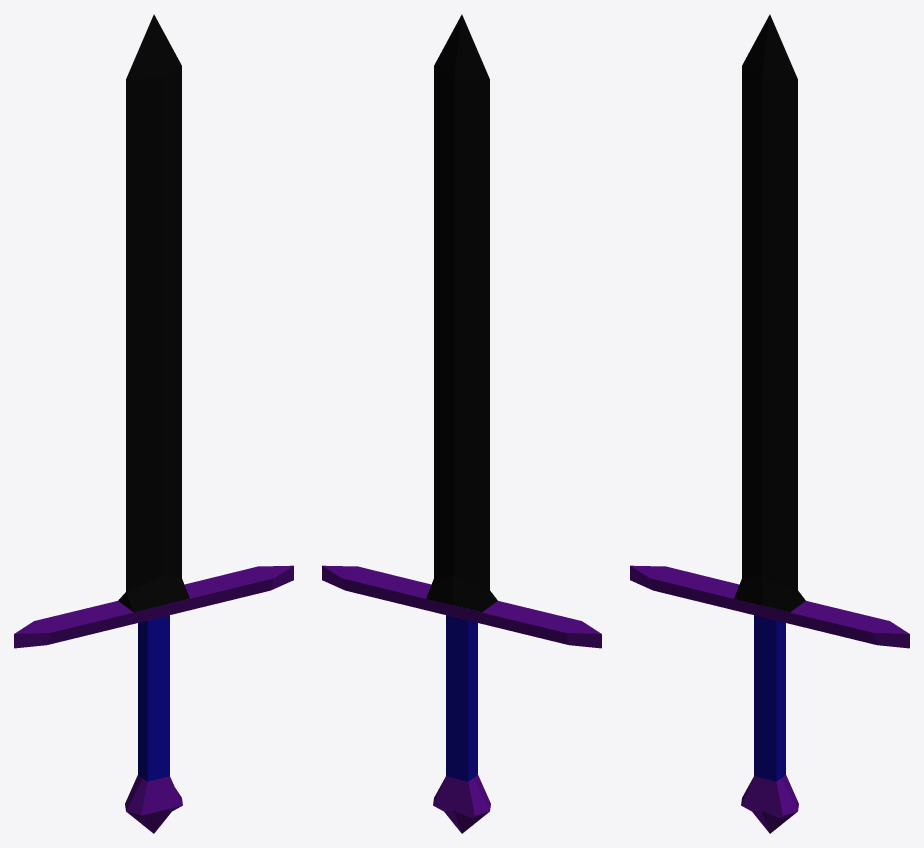
File: Sword1.fbx
The picture shows the model from 3 angles, left to right: view 1: azimuth 30°, elevation 25°; view 2: azimuth 150°, elevation 25°; view 3: azimuth 330°, elevation 25°; orthographic projection.
Visible parts, largest first — view 1: Cube; view 2: Cube; view 3: Cube.
Part boxes in pixels (bbox=[...]): Cube: bbox=[14, 14, 293, 833]; Cube: bbox=[322, 14, 601, 833]; Cube: bbox=[630, 14, 909, 833].
Size of the model in its own units: 1000 by 2800 by 100.
1 material, 1 textured.
